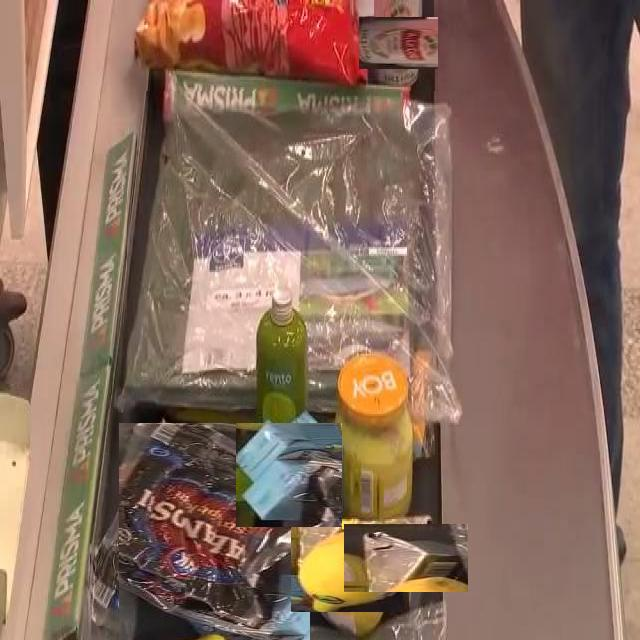beverage: (227, 308, 339, 420), (365, 10, 431, 76)
food-box: (128, 91, 468, 423), (105, 435, 322, 640), (128, 0, 370, 91), (342, 349, 416, 529), (236, 414, 350, 528), (358, 510, 455, 606)
fruit: (298, 518, 398, 618)
